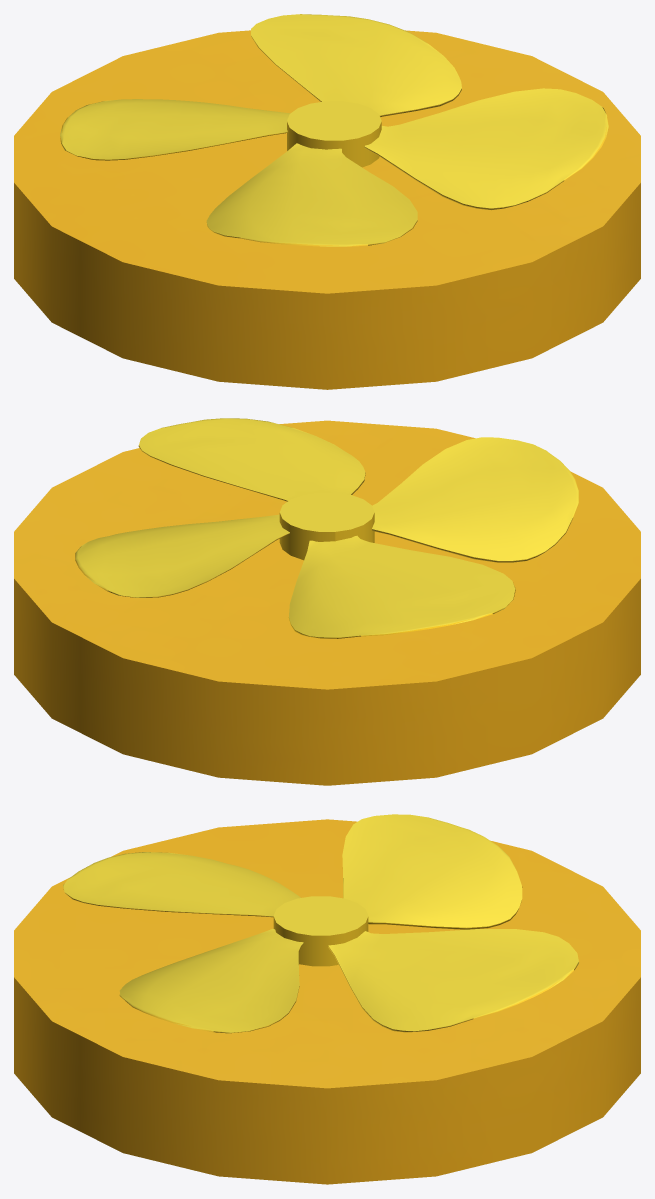
Rendered from Fan_Low01.FBX.
3 renders of one model, top to bottom at view 1: azimuth 30°, elevation 25°; view 2: azimuth 150°, elevation 25°; view 3: azimuth 270°, elevation 25°, orthographic.
Parts seen in each view (by area): view 1: Fan_Low02, Fan_Low01; view 2: Fan_Low02, Fan_Low01; view 3: Fan_Low02, Fan_Low01.
Boxes of the visible parts, x1,y1,x2,y2 form: Fan_Low02: (14, 30, 640, 389); Fan_Low01: (60, 14, 608, 246); Fan_Low02: (14, 420, 640, 785); Fan_Low01: (75, 418, 578, 638); Fan_Low02: (14, 819, 640, 1184); Fan_Low01: (63, 814, 578, 1033).
Size of the model in its own units: 3 by 0.7063 by 2.95.
